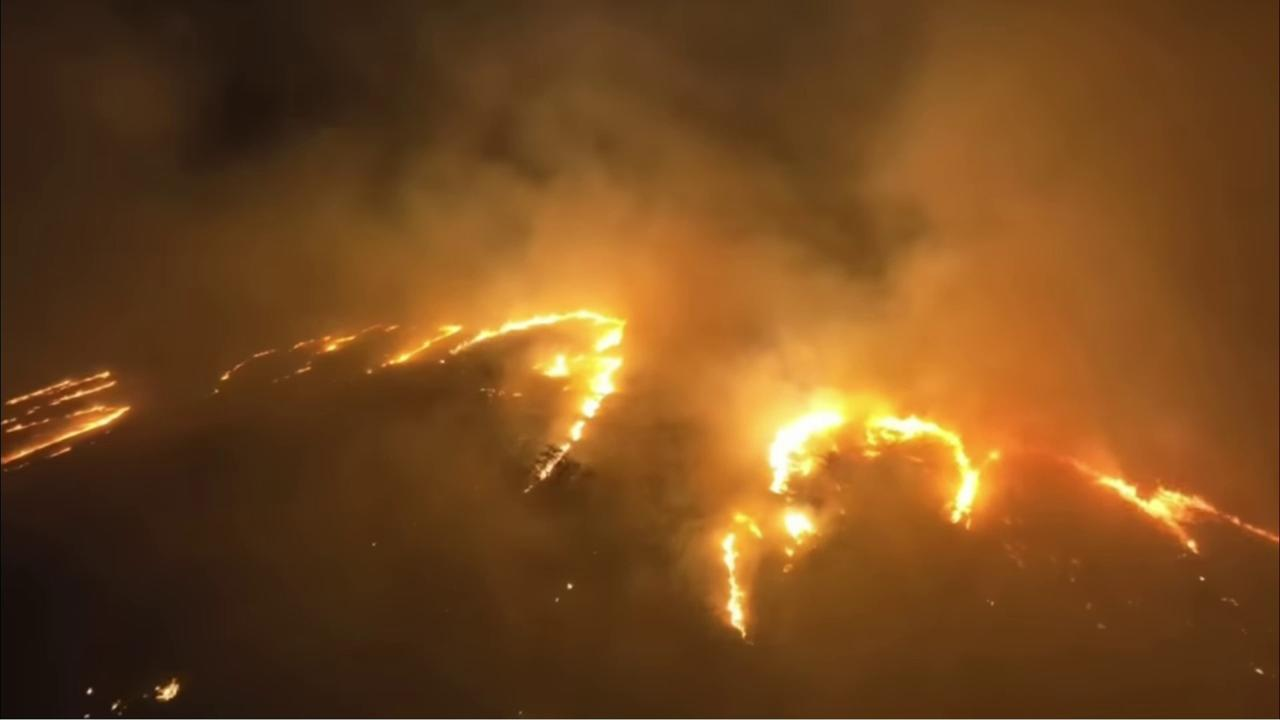fire: (765, 397, 1280, 641), (287, 308, 630, 504), (0, 366, 137, 476), (713, 507, 763, 641), (220, 346, 277, 383), (149, 676, 181, 702), (110, 699, 120, 713), (84, 685, 94, 697), (1256, 666, 1266, 678), (566, 581, 576, 592), (82, 712, 91, 719), (553, 597, 561, 604)
smoke: (0, 0, 1280, 720)
